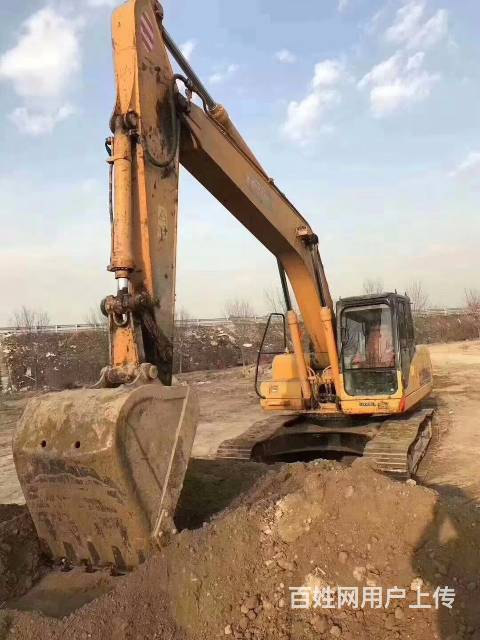excavator: (6, 2, 455, 594)
